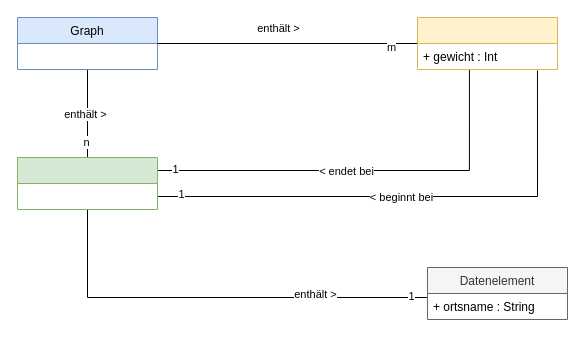
This 585x340 diagram has some shape labels left out. The shapes that lost their labels are listed below. From the top down, each one's box as (x1, y1, x2, y2) in pixels, then its label:
(416, 16, 558, 70): Kante
(16, 156, 158, 210): Knoten
